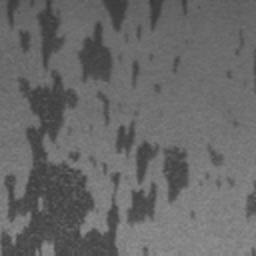Red iron sheet: (0, 0, 256, 256), (233, 29, 246, 58), (229, 118, 239, 129), (142, 244, 151, 256), (225, 68, 233, 81), (188, 209, 196, 219), (250, 246, 256, 255)
